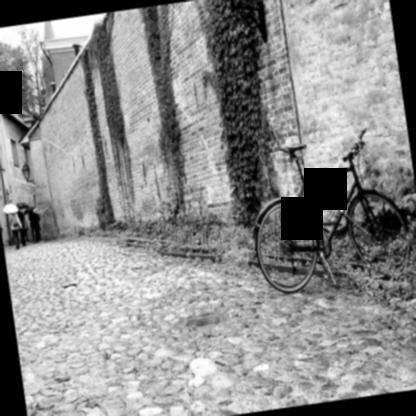backpack: (11, 212, 19, 230)
